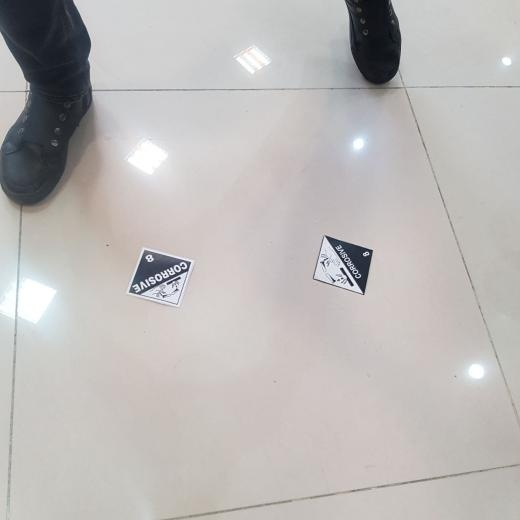Corrosive: (126, 247, 194, 308), (313, 235, 373, 296)
